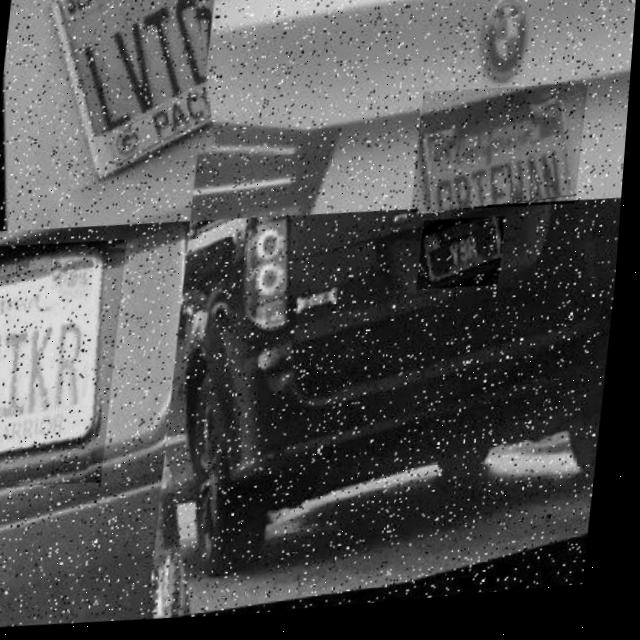LicensePlate: (35, 0, 224, 192), (0, 237, 131, 494), (414, 88, 590, 226), (426, 226, 505, 297)
